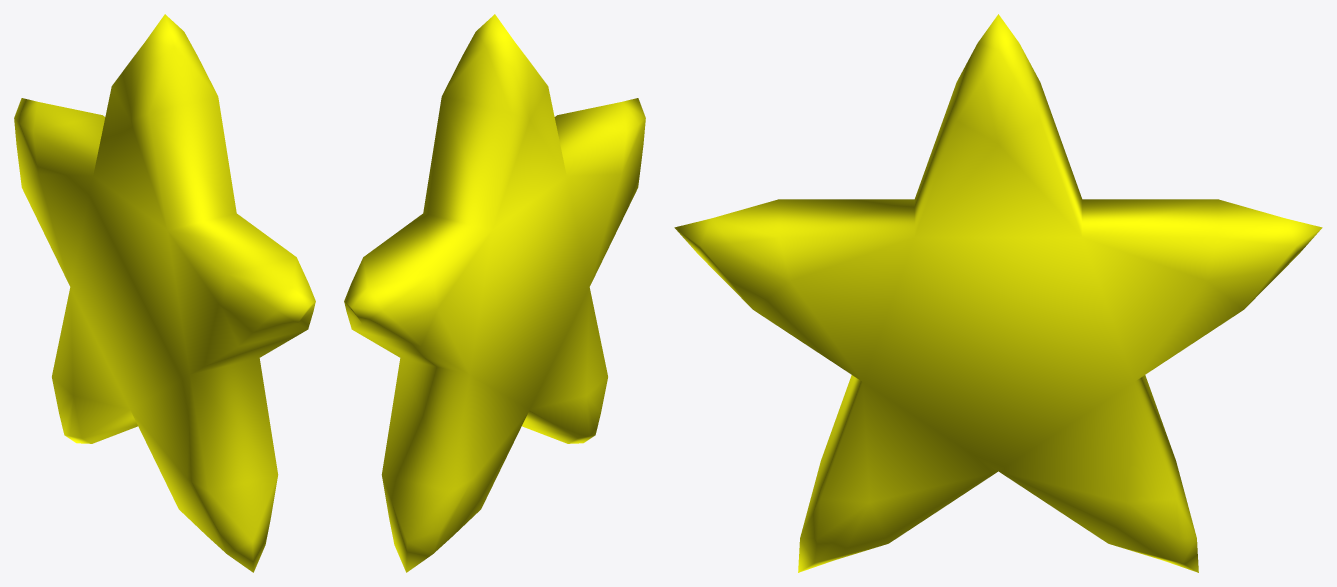
The model's file is star.obj.
3 views of the same model, side by side, from view 1: azimuth 30°, elevation 25°; view 2: azimuth 150°, elevation 25°; view 3: azimuth 270°, elevation 25° (orthographic). The views are drawn at different scales.
Visible parts, largest first — view 1: NGon001; view 2: NGon001; view 3: NGon001.
Part boxes in pixels (x1,y1,x2,y2): NGon001: (14, 14, 315, 572); NGon001: (344, 14, 645, 572); NGon001: (674, 14, 1322, 572).
Size of the model in its own units: 4 by 27.2 by 28.6.
